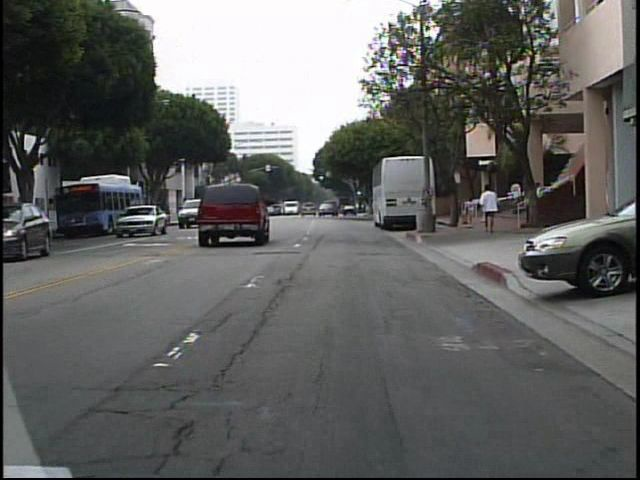person: (479, 183, 503, 237), (464, 195, 477, 226)
